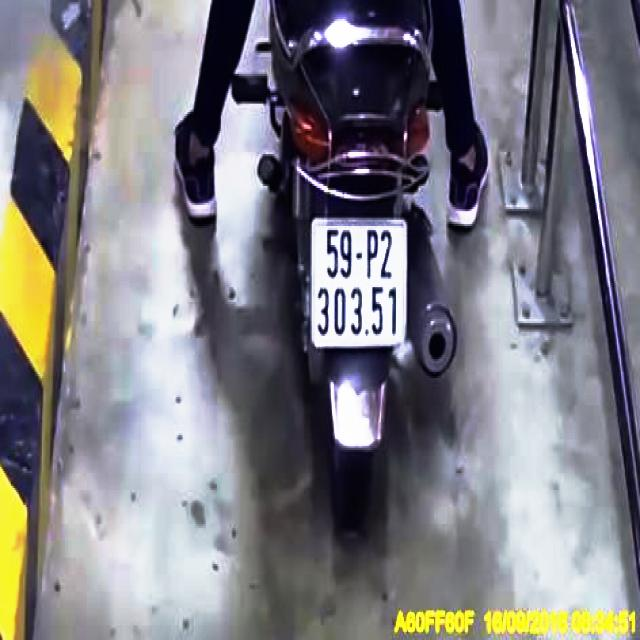license_plate: (311, 220, 408, 345)
